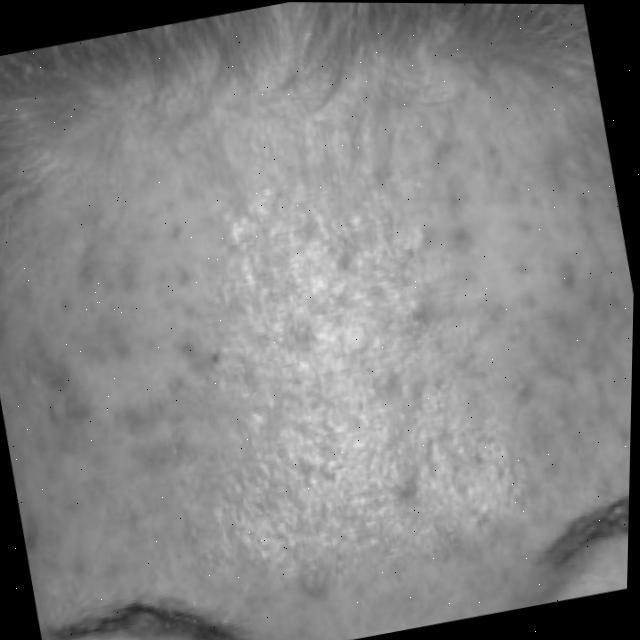Acne: (41, 89, 638, 532)
